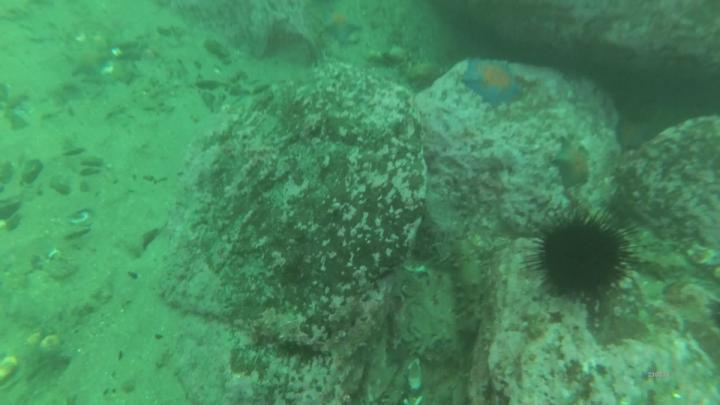echinus: (547, 219, 627, 299)
holothurian: (459, 257, 487, 334), (632, 245, 687, 278)
starfish: (465, 59, 523, 102), (555, 135, 591, 188), (325, 10, 363, 41)
